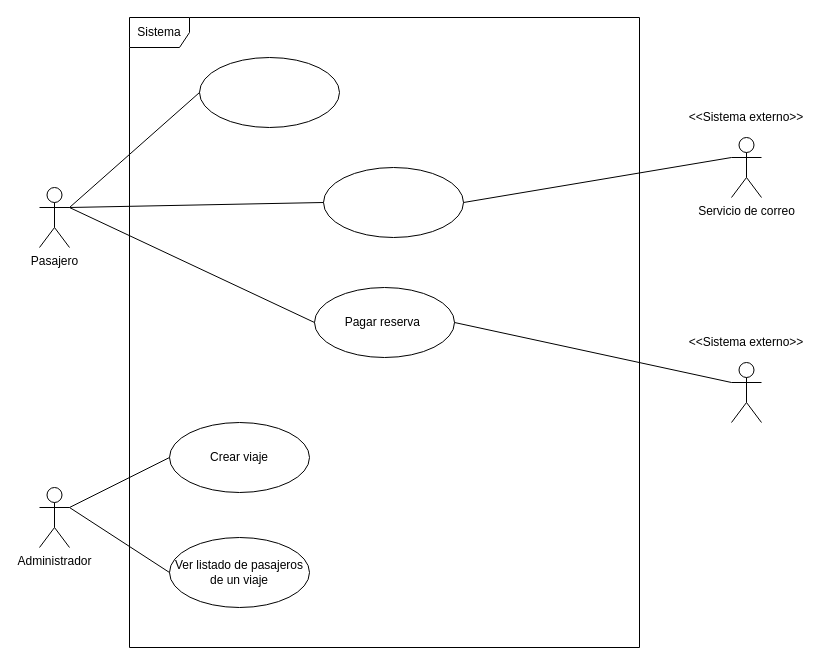
Image size: 823x665. Some labels were removed from this diagram. The box of each missing label's shape, as (x1, y1, x2, y2) in pixels:
Consultar cartelera de viajes: (198, 56, 340, 128)
Pasarela de pago: (730, 362, 762, 422)
Reservar asiento: (322, 166, 464, 238)
